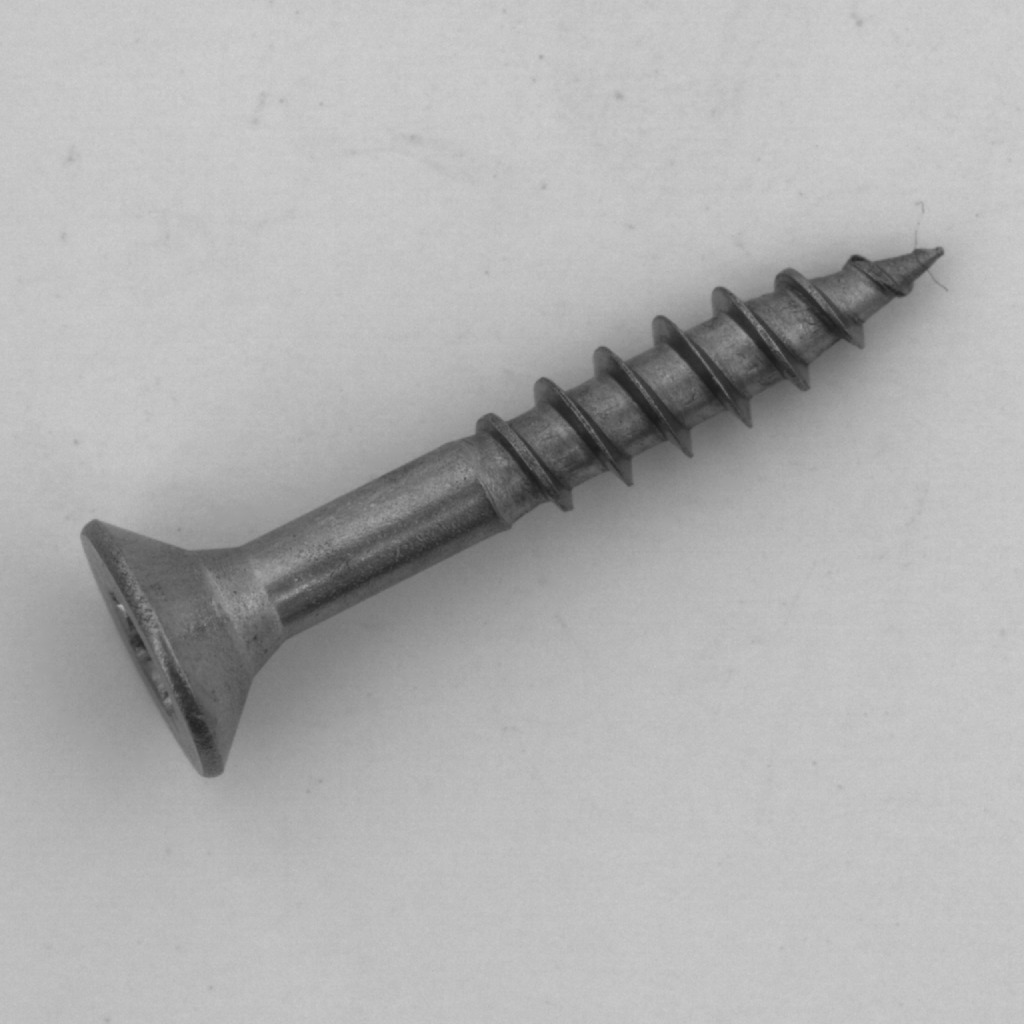good: (56, 226, 960, 805)
